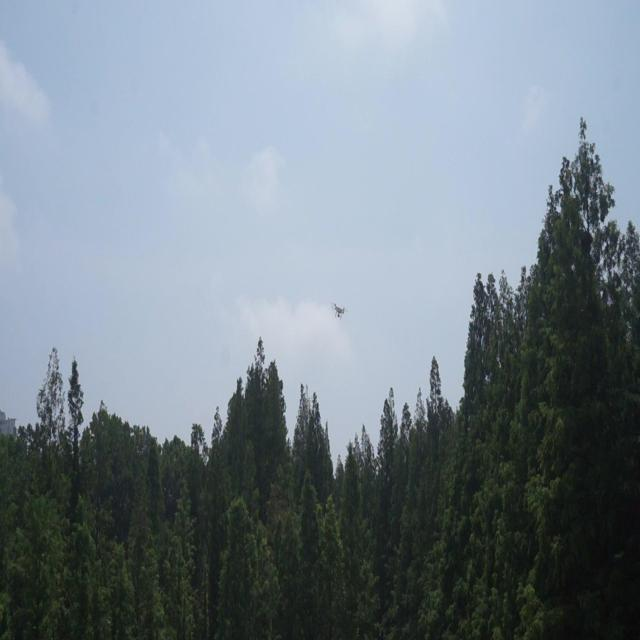drone: (331, 300, 348, 322)
